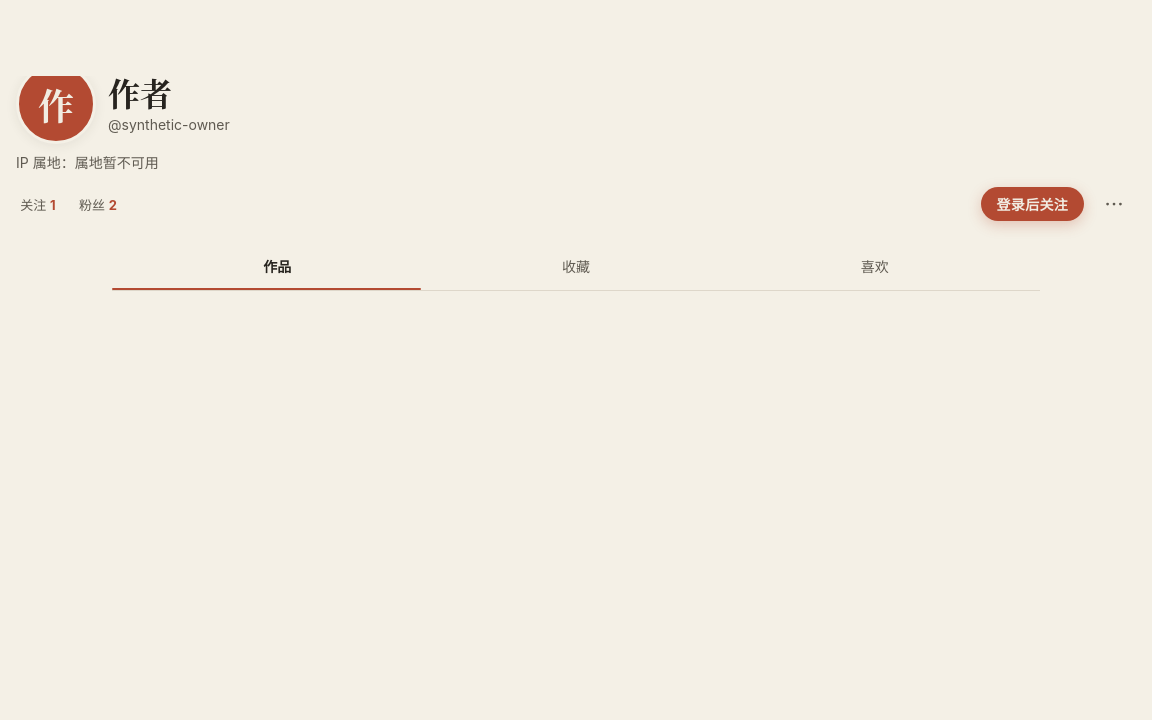
Scenario: Visitor profile actions › offers a signed-out visitor the sign-in pill and a login-gated report menu
Expected: the link "登录后关注" is shown, [981,187,1084,221]
Click the button named "更多操作" at {"x": 1114, "y": 204}, box [1092,182,1136,226]
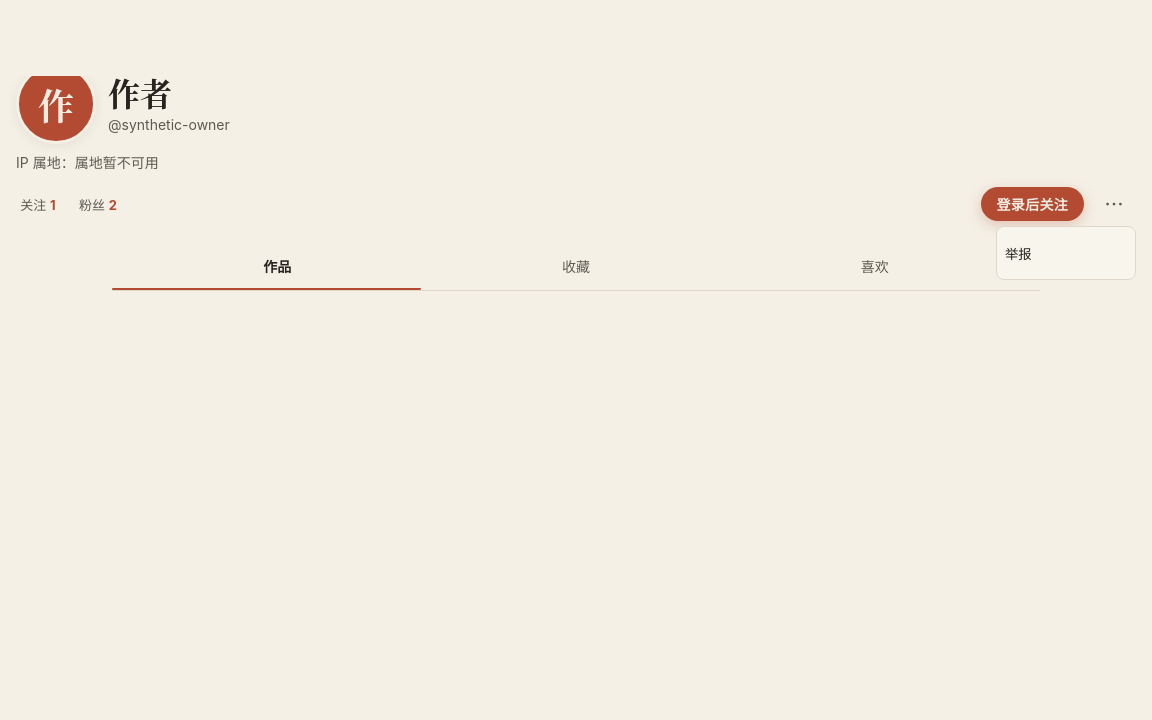
Expected: the menu item "举报" is shown, [1001,231,1131,275]
